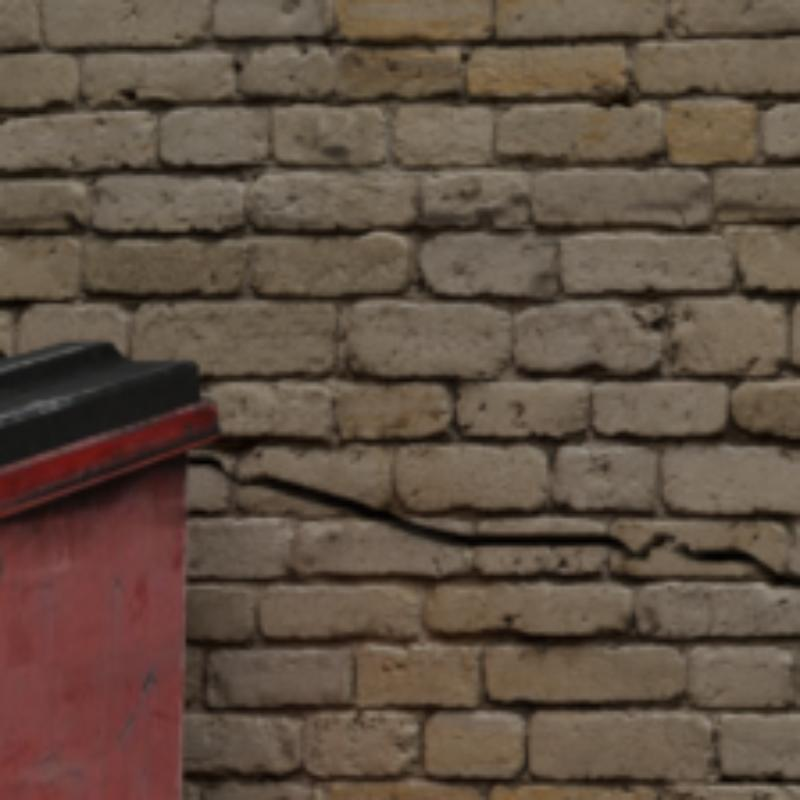pothole: (188, 454, 799, 586)
